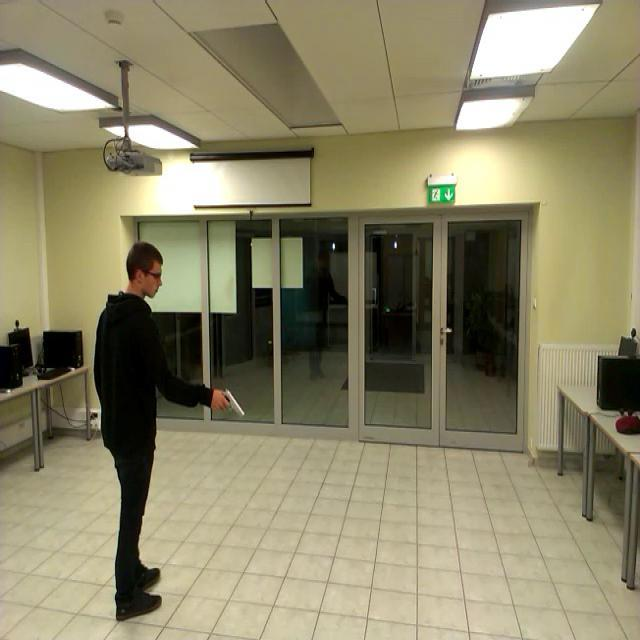Gun: (214, 387, 244, 418)
